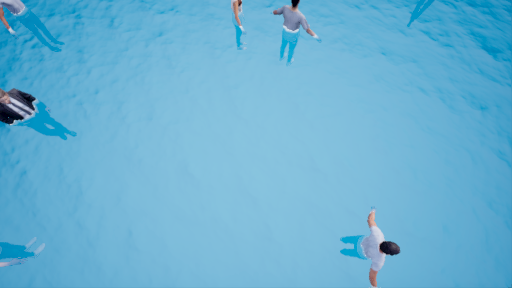person: (333, 198, 400, 288), (1, 85, 97, 145), (1, 1, 68, 62), (270, 1, 321, 76), (226, 1, 251, 57)
